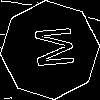M: (25, 25, 74, 70)
